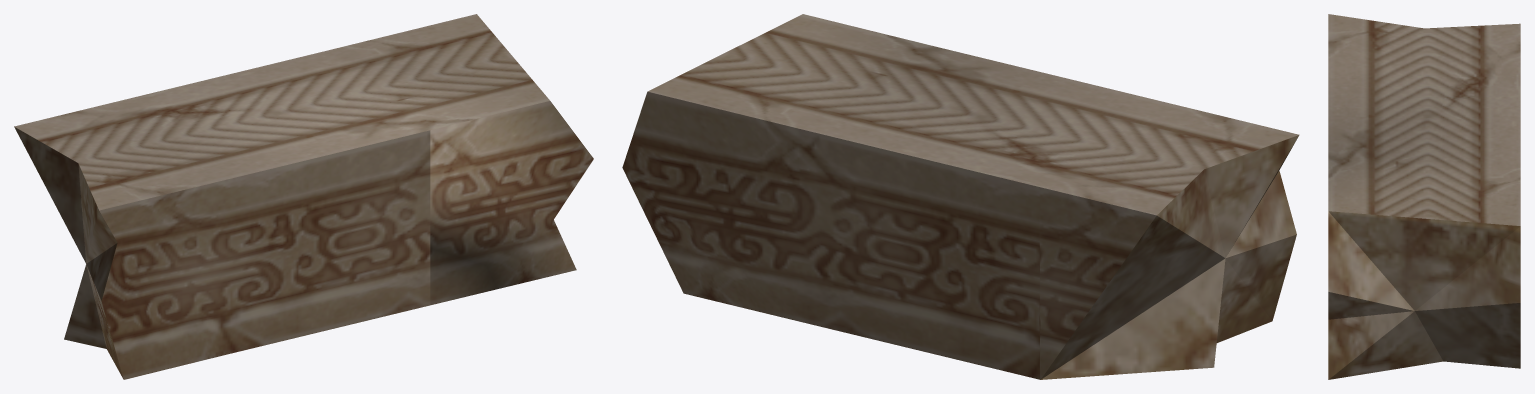
The model's file is Scene_Build_TaZiShaMo_GongMen_5.FBX.
The picture shows the model from 3 angles, left to right: view 1: azimuth 30°, elevation 25°; view 2: azimuth 150°, elevation 25°; view 3: azimuth 270°, elevation 25°; orthographic projection. The views are drawn at different scales.
Parts seen in each view (by area): view 1: Scene_Build_TaZiShaMo_GongMen_5; view 2: Scene_Build_TaZiShaMo_GongMen_5; view 3: Scene_Build_TaZiShaMo_GongMen_5.
Part boxes in pixels (<box>): Scene_Build_TaZiShaMo_GongMen_5: <box>14,14,593,379</box>; Scene_Build_TaZiShaMo_GongMen_5: <box>622,14,1299,379</box>; Scene_Build_TaZiShaMo_GongMen_5: <box>1328,14,1520,379</box>.
Bounding box in the file's own units: 1769 × 586 × 648.
Materials: 1 (1 with a texture image).
